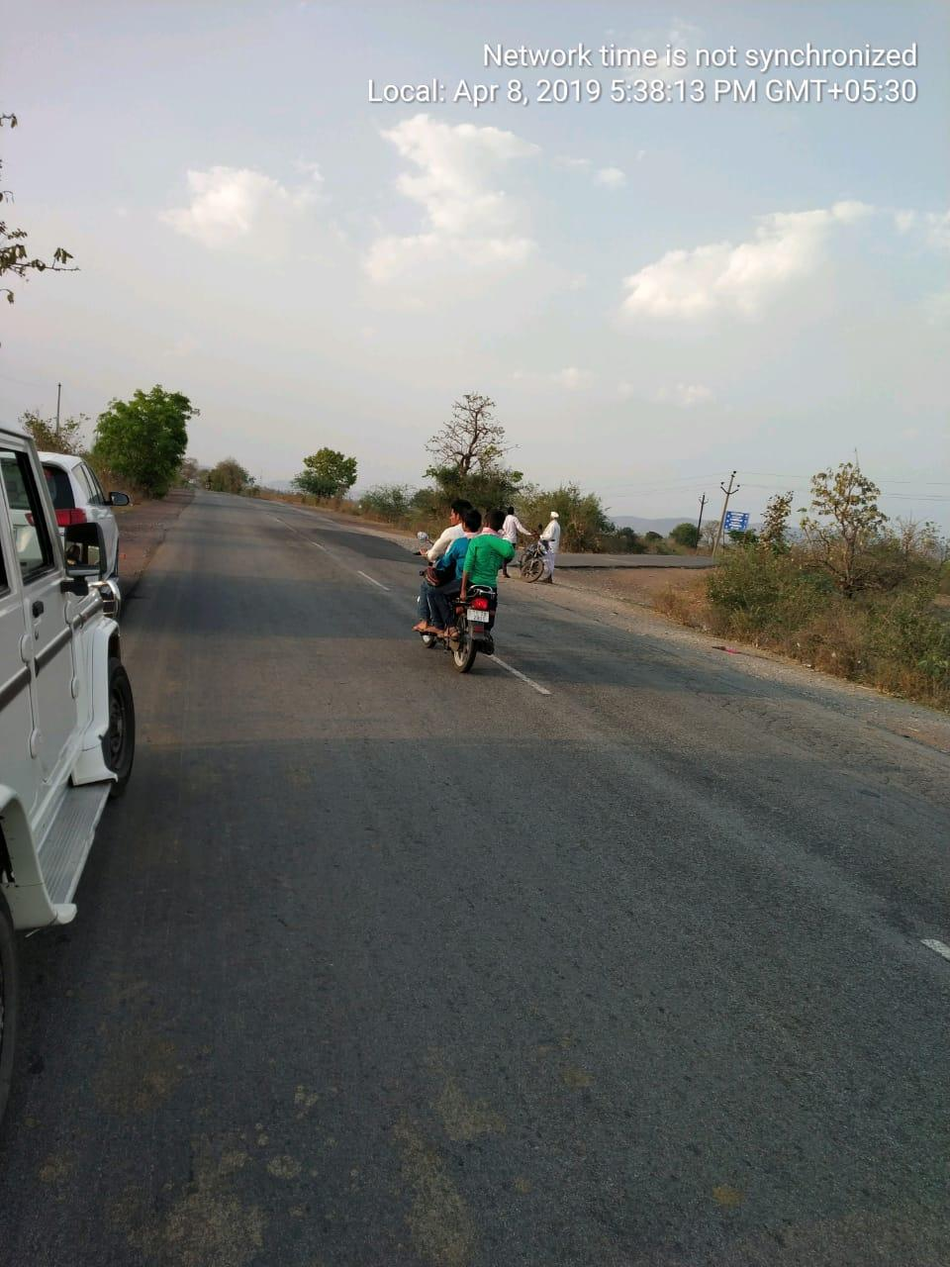plate: (464, 607, 497, 627)
